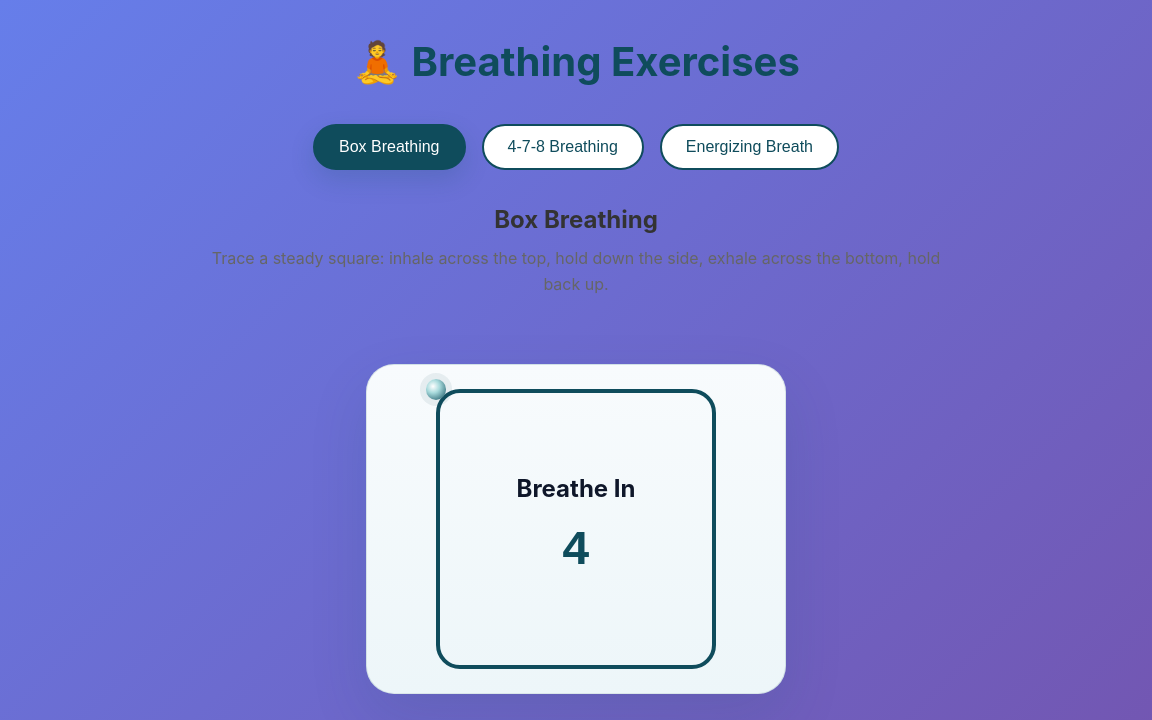
Scenario: BreathingExercise › switches to exercise-specific visuals for relaxation and energizing modes
The width and height of the screenshot is (1152, 720).
Click the button "4-7-8 Breathing" at (563, 147), box left=482, top=124, right=644, bottom=170
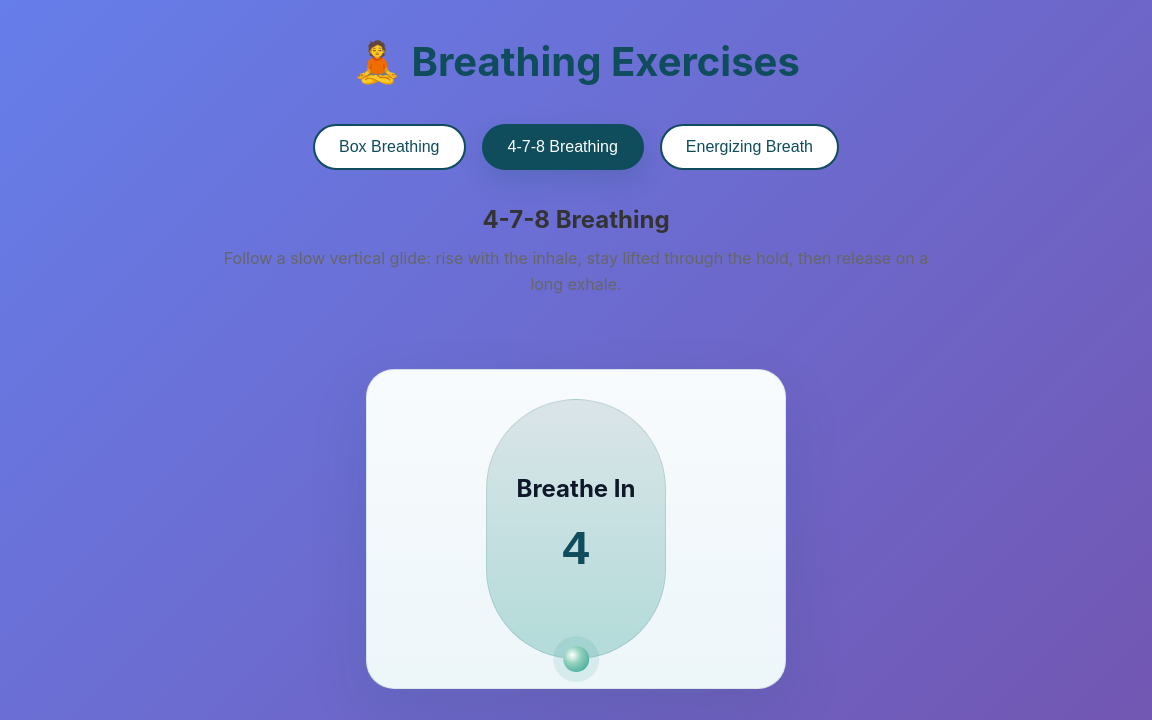
Expected: the element with test id "relax-breathing-visual" is shown, left=366, top=369, right=786, bottom=689
Click the button "Energizing Breath" at (749, 147), box left=660, top=124, right=839, bottom=170
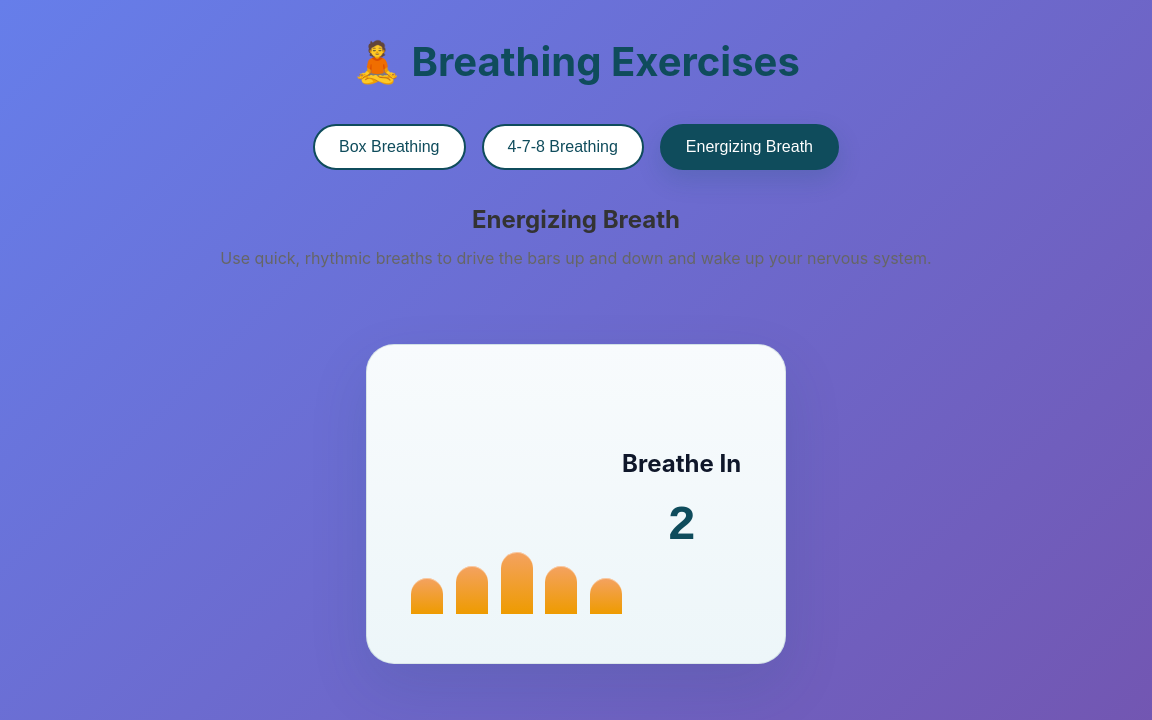
Expected: the element with test id "energizing-breath-visual" is shown, left=366, top=344, right=786, bottom=664
